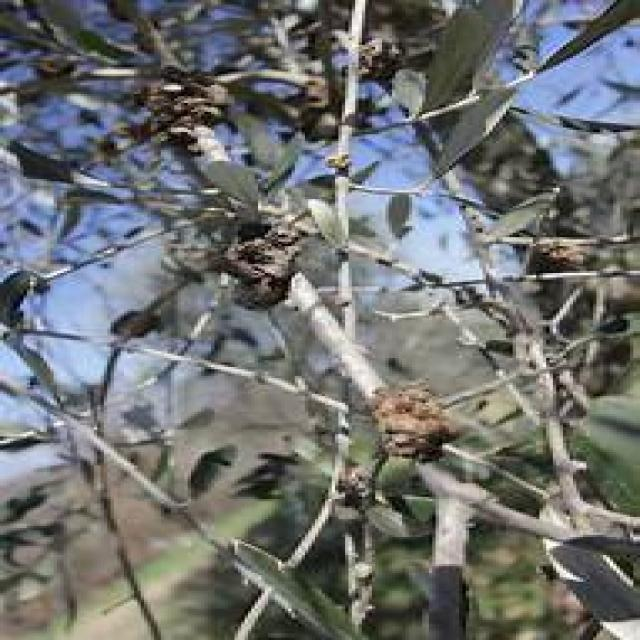Tuberculosis: (208, 224, 305, 302), (141, 67, 221, 152), (375, 392, 459, 458)
